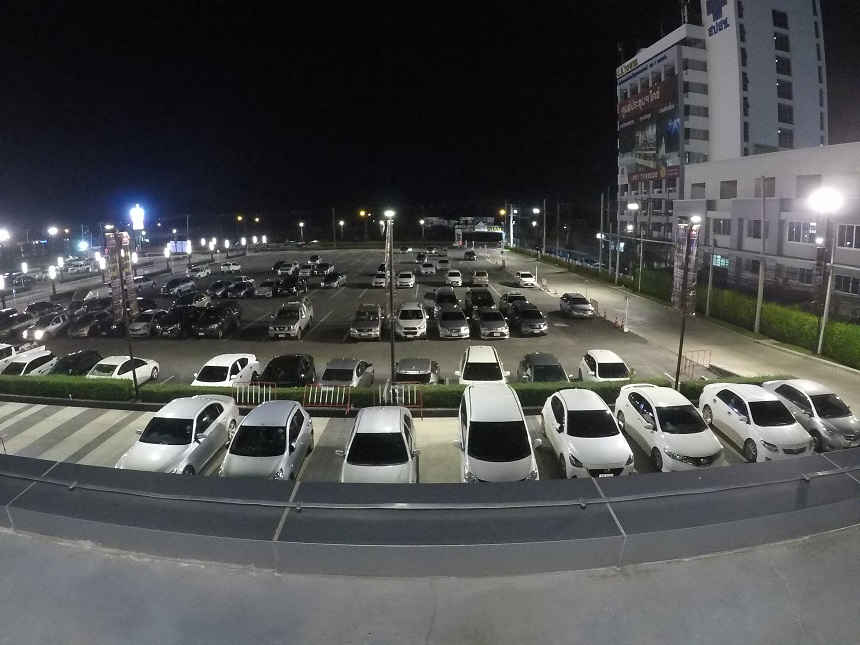busy: (345, 424, 424, 477), (552, 423, 636, 470), (461, 429, 538, 476), (654, 420, 723, 467), (142, 419, 209, 466), (229, 428, 302, 470), (748, 403, 807, 454), (815, 408, 860, 448), (455, 351, 512, 379), (318, 358, 373, 383), (517, 351, 563, 380), (208, 354, 255, 380), (263, 355, 308, 382), (582, 350, 627, 377), (195, 312, 236, 339), (158, 311, 190, 340), (433, 319, 473, 341), (269, 314, 303, 338), (396, 356, 433, 378), (105, 356, 146, 375), (477, 314, 511, 335), (394, 318, 427, 339), (63, 320, 93, 342), (355, 316, 383, 339), (98, 314, 126, 336), (125, 320, 153, 338), (28, 323, 53, 341), (61, 355, 87, 372), (18, 353, 45, 369), (522, 315, 546, 333), (1, 314, 14, 336), (1, 351, 11, 364)
